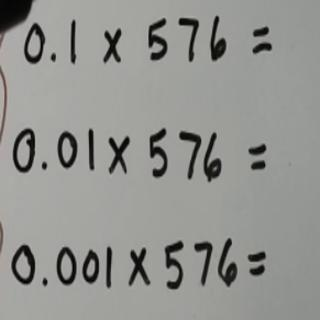.: (48, 50, 59, 64), (39, 275, 50, 288), (40, 160, 49, 172)
0: (11, 127, 37, 175), (10, 242, 37, 286), (21, 22, 46, 65), (55, 130, 79, 170), (55, 245, 78, 286), (81, 249, 101, 286)
1: (67, 17, 79, 66), (103, 244, 115, 289), (86, 127, 97, 173)
5: (144, 17, 171, 63), (163, 240, 186, 291), (148, 128, 170, 179)
6: (216, 237, 240, 289), (208, 15, 231, 63), (203, 130, 223, 184)
7: (176, 127, 202, 179), (176, 16, 202, 64), (191, 239, 213, 287)
